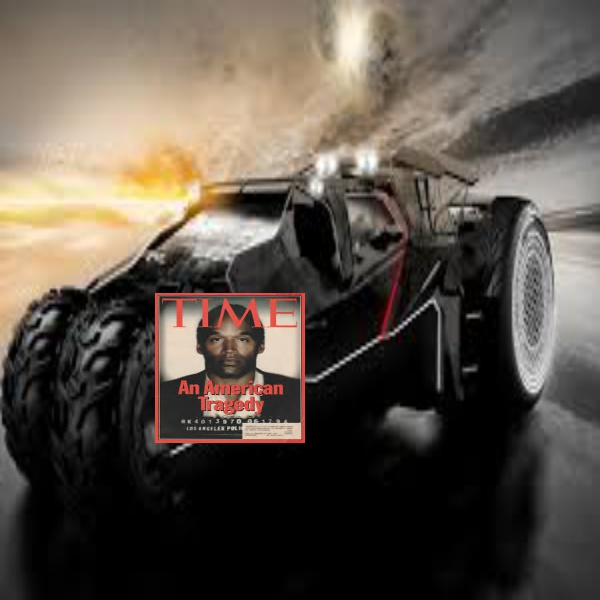time_cover: (146, 275, 309, 449)
